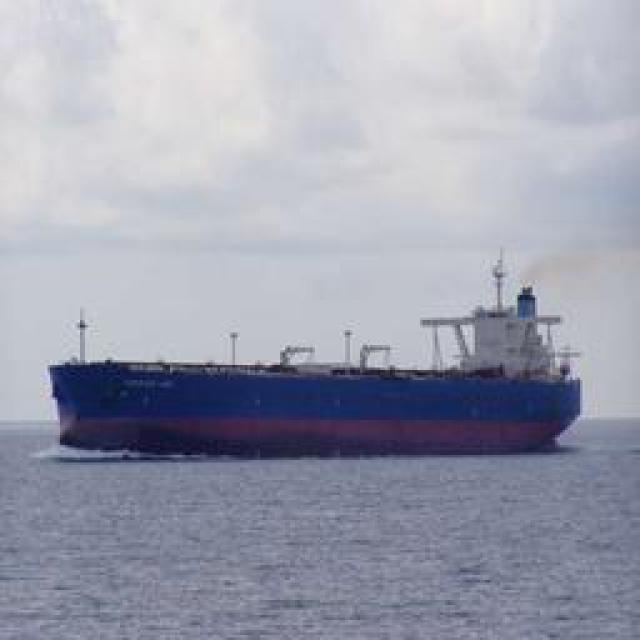Ship: (40, 263, 598, 458)
